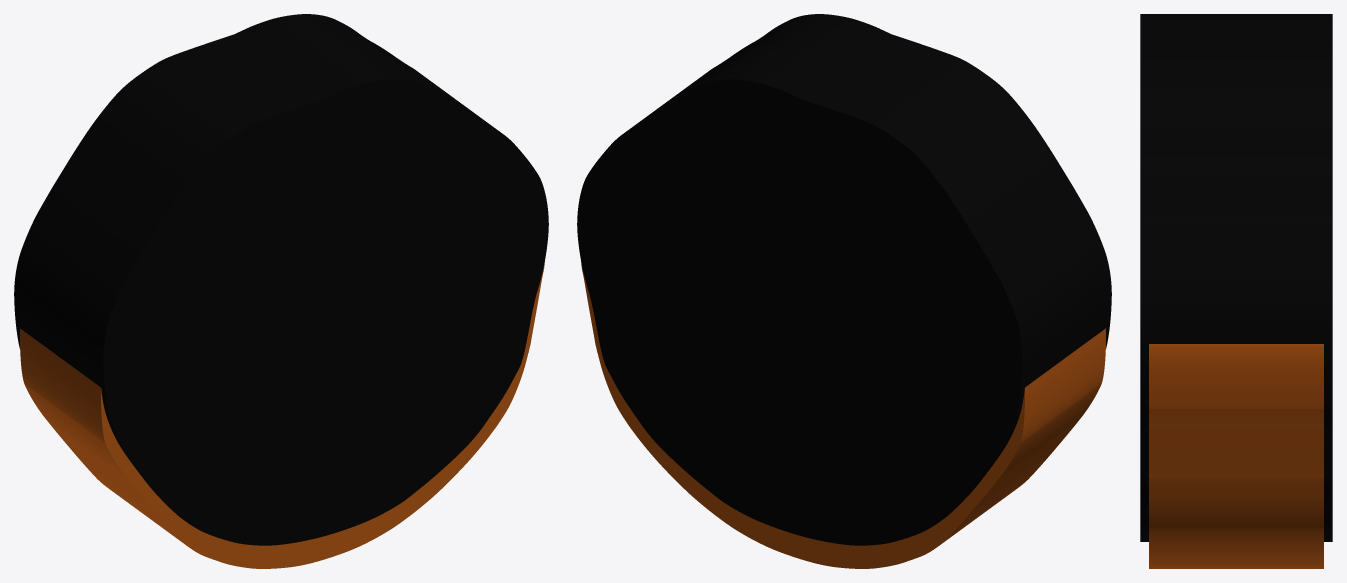
The model's file is U+1FAD3.obj.
The picture shows the model from 3 angles, left to right: view 1: azimuth 30°, elevation 25°; view 2: azimuth 150°, elevation 25°; view 3: azimuth 270°, elevation 25°; orthographic projection. The views are drawn at different scales.
Visible parts, largest first — view 1: U+1FAD3_layer01_obj00, U+1FAD3_layer00_obj00, U+1FAD3_layer01_obj03, U+1FAD3_layer01_obj02, U+1FAD3_layer01_obj04, U+1FAD3_layer01_obj05, U+1FAD3_layer01_obj01; view 2: U+1FAD3_layer01_obj00, U+1FAD3_layer00_obj00, U+1FAD3_layer01_obj03, U+1FAD3_layer01_obj02, U+1FAD3_layer01_obj04, U+1FAD3_layer01_obj05, U+1FAD3_layer01_obj01; view 3: U+1FAD3_layer01_obj00, U+1FAD3_layer00_obj00.
Part boxes in pixels (box(x1,y1,x2,y2)): U+1FAD3_layer01_obj00: box(14, 14, 548, 545); U+1FAD3_layer00_obj00: box(20, 261, 544, 568); U+1FAD3_layer01_obj03: box(202, 167, 372, 387); U+1FAD3_layer01_obj02: box(227, 192, 418, 441); U+1FAD3_layer01_obj04: box(282, 238, 446, 455); U+1FAD3_layer01_obj05: box(347, 291, 468, 455); U+1FAD3_layer01_obj01: box(183, 155, 318, 327); U+1FAD3_layer01_obj00: box(577, 14, 1111, 545); U+1FAD3_layer00_obj00: box(581, 261, 1105, 568); U+1FAD3_layer01_obj03: box(753, 167, 923, 388); U+1FAD3_layer01_obj02: box(708, 193, 898, 441); U+1FAD3_layer01_obj04: box(677, 234, 843, 457); U+1FAD3_layer01_obj05: box(654, 288, 778, 455); U+1FAD3_layer01_obj01: box(807, 156, 942, 327); U+1FAD3_layer01_obj00: box(1140, 14, 1332, 541); U+1FAD3_layer00_obj00: box(1149, 344, 1323, 568).
Size of the model in its own units: 0.3185 by 0.3203 by 0.11.
